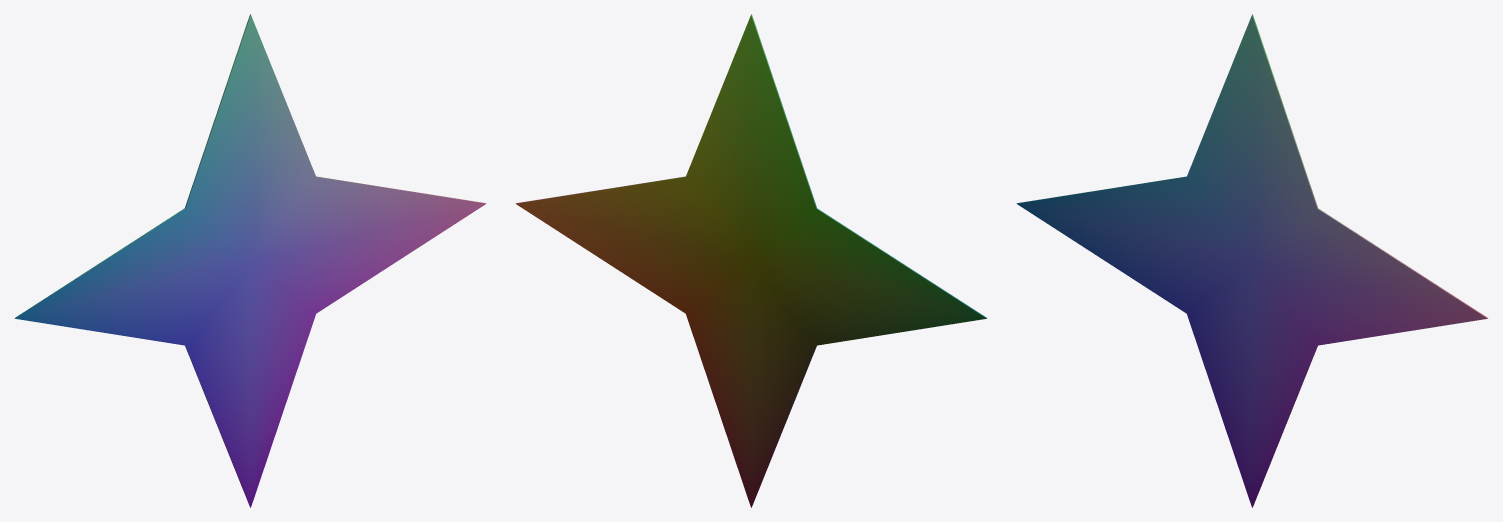
Rendered from zeometry-flat-shapes-flat-star_v7.glb.
3 renders of one model, left to right at view 1: azimuth 30°, elevation 25°; view 2: azimuth 150°, elevation 25°; view 3: azimuth 330°, elevation 25°, orthographic.
Parts seen in each view (by area): view 1: Flat Star_v7; view 2: Flat Star_v7; view 3: Flat Star_v7.
Part boxes in pixels (bbox=[...]): Flat Star_v7: bbox=[14, 14, 486, 507]; Flat Star_v7: bbox=[515, 14, 987, 507]; Flat Star_v7: bbox=[1016, 14, 1488, 507].
Size of the model in its own units: 0.5 by 0.5 by 0.00133.
